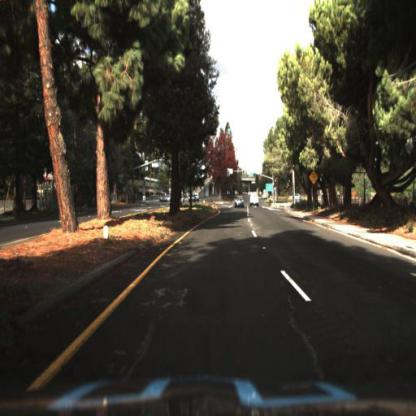car: (248, 192, 263, 208), (235, 196, 246, 208)
trafficLight-Red: (274, 177, 279, 187)
